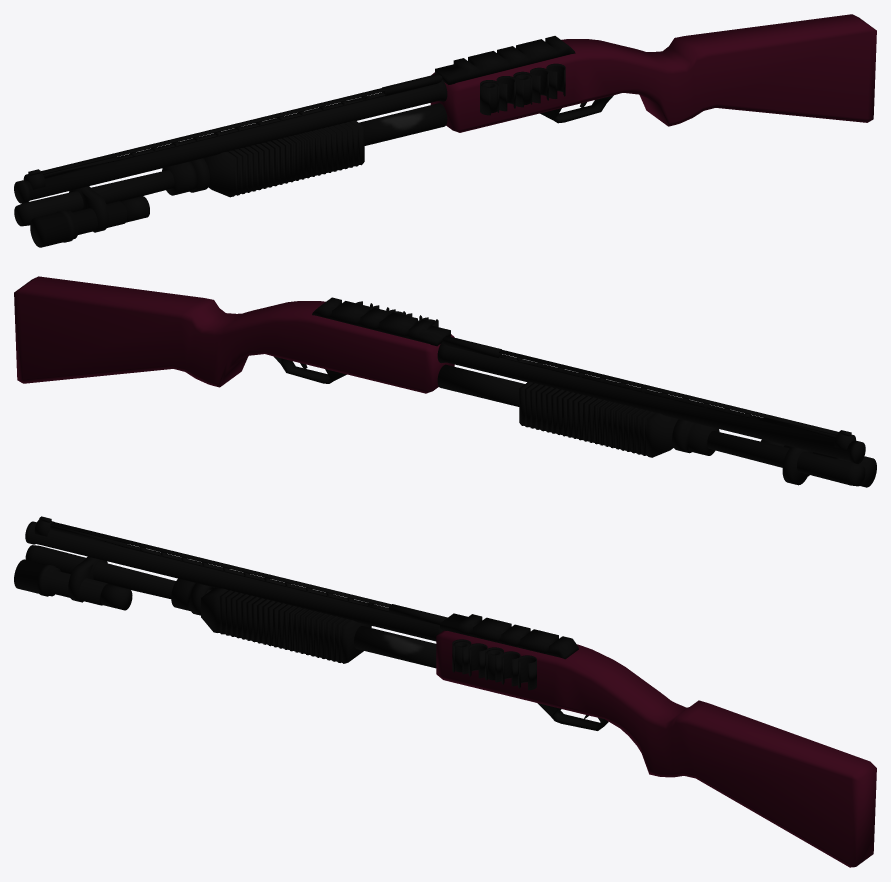
File: shotgun.gltf
The picture shows the model from 3 angles, top to bottom: view 1: azimuth 30°, elevation 25°; view 2: azimuth 150°, elevation 25°; view 3: azimuth 330°, elevation 25°; orthographic projection.
Parts seen in each view (by area): view 1: Cylinder.007; view 2: Cylinder.007; view 3: Cylinder.007.
Boxes of the visible parts, box(x1,y1,x2,y2) form: Cylinder.007: box(14, 14, 876, 247); Cylinder.007: box(14, 276, 876, 487); Cylinder.007: box(14, 516, 876, 867).
Bounding box in the file's own units: 4.11 × 0.685 × 0.2909.
2 materials, 1 textured.
